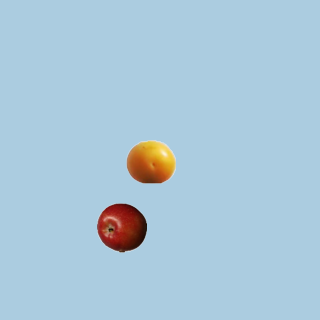Apple Braeburn: (96, 202, 146, 252)
Cherry Wax Yellow: (125, 136, 175, 186)
